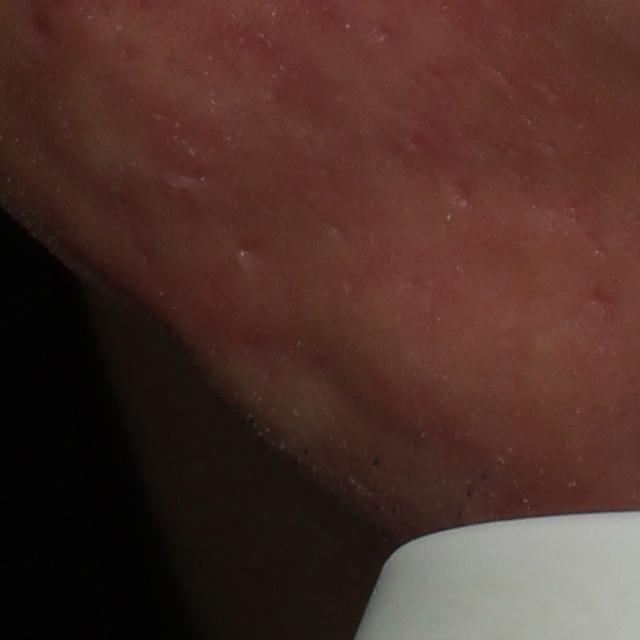atrophic_scar: (438, 173, 486, 214)
hypertrophic_scar: (22, 71, 180, 208), (188, 348, 343, 473)
